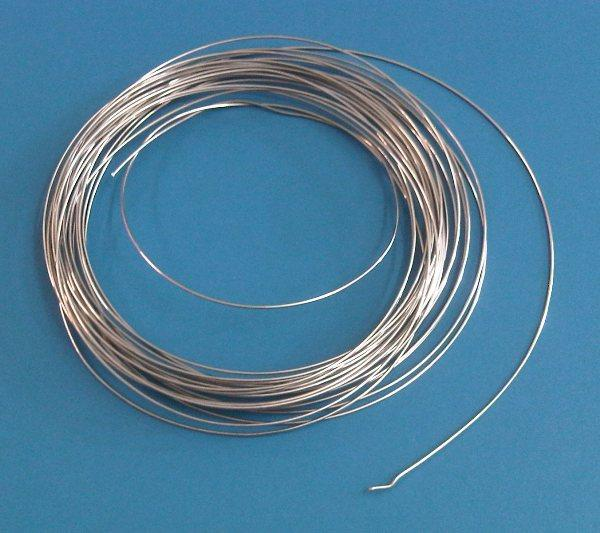Nonrec_Tangler: (37, 29, 560, 497)
